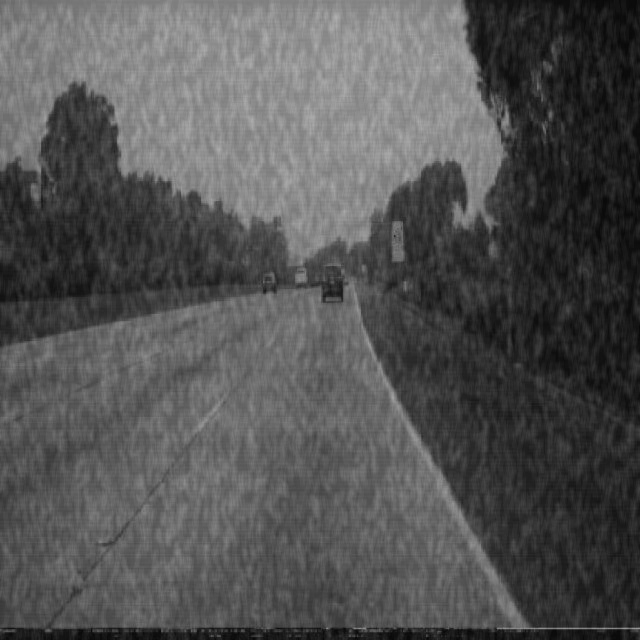truckSpeedLimit55: (391, 220, 404, 251)
